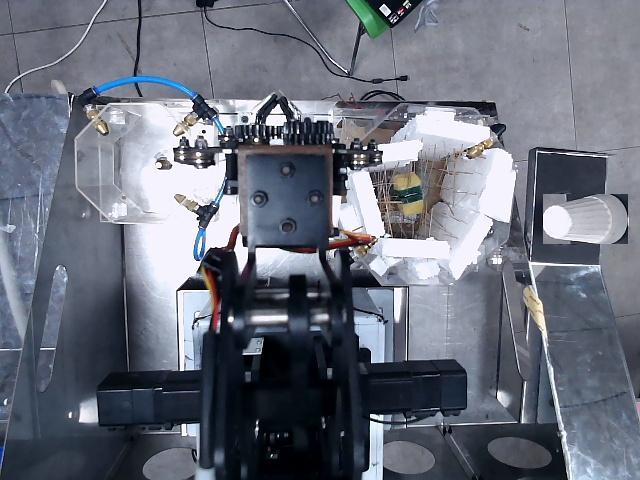cup: (543, 194, 628, 244)
